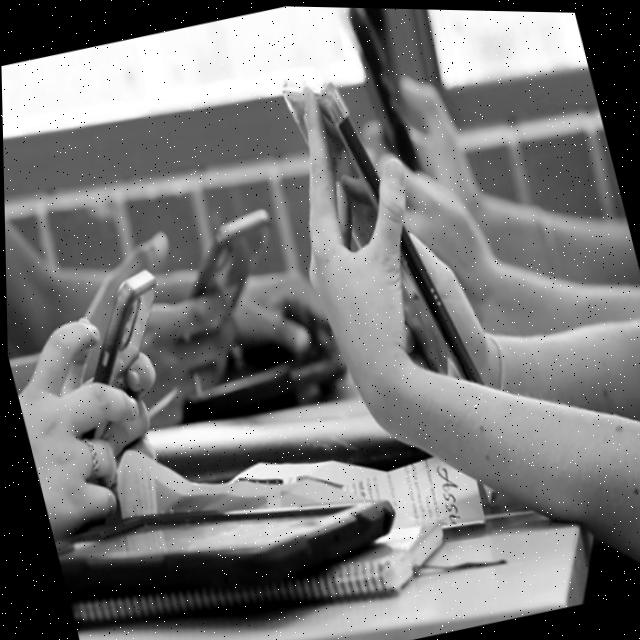phone: (261, 46, 501, 416), (46, 448, 407, 638), (50, 258, 191, 445), (152, 196, 296, 349), (331, 6, 434, 182)
